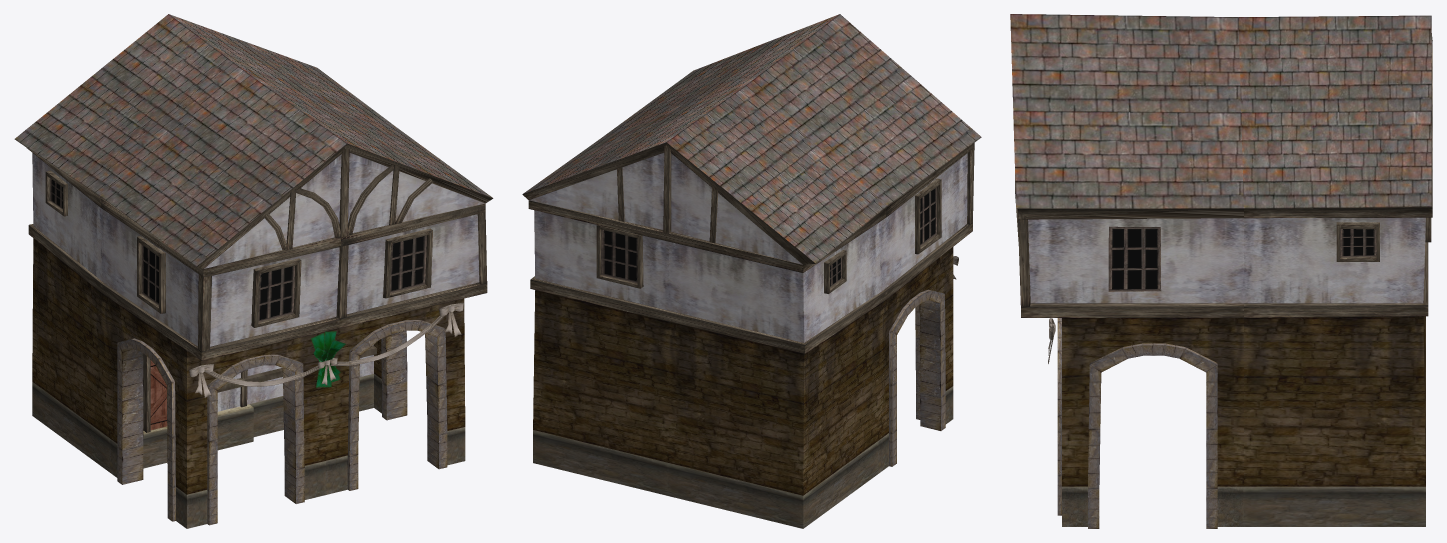
File: english_corner_d.fbx
The picture shows the model from 3 angles, left to right: view 1: azimuth 30°, elevation 25°; view 2: azimuth 150°, elevation 25°; view 3: azimuth 270°, elevation 25°; orthographic projection. The views are drawn at different scales.
Parts seen in each view (by area): view 1: building_shell, building_shell6, building_shell3, window_a_016, window_a_018, window_a_033, window_a_034, window_a_032, door_left, window_a_020, decoRibbon1, decoRibbon (+4 smaller); view 2: building_shell, building_shell6, window_a_021, window_a_035, window_a_032, window_a_020, window_b_07; view 3: building_shell, building_shell6, window_a_022, window_b_04, window_b_010.
Part boxes in pixels (left/top/right/bottom): building_shell: left=14, top=14, right=492, bottom=528; building_shell6: left=20, top=143, right=492, bottom=360; building_shell3: left=143, top=407, right=253, bottom=468; window_a_016: left=390, top=235, right=426, bottom=293; window_a_018: left=258, top=266, right=294, bottom=322; window_a_033: left=251, top=258, right=301, bottom=327; window_a_034: left=383, top=228, right=432, bottom=298; window_a_032: left=137, top=236, right=165, bottom=313; door_left: left=150, top=360, right=167, bottom=430; window_a_020: left=142, top=245, right=158, bottom=305; decoRibbon1: left=205, top=365, right=319, bottom=386; decoRibbon: left=330, top=315, right=444, bottom=366; building_shell: left=523, top=14, right=981, bottom=528; building_shell6: left=522, top=142, right=974, bottom=353; window_a_021: left=601, top=230, right=637, bottom=283; window_a_035: left=596, top=225, right=643, bottom=288; window_a_032: left=915, top=178, right=941, bottom=254; window_a_020: left=920, top=187, right=936, bottom=246; window_b_07: left=824, top=250, right=846, bottom=293; building_shell: left=1010, top=14, right=1432, bottom=528; building_shell6: left=1017, top=33, right=1432, bottom=317; window_a_022: left=1108, top=226, right=1160, bottom=291; window_b_04: left=1340, top=229, right=1376, bottom=256; window_b_010: left=1336, top=222, right=1379, bottom=261.
Size of the model in its own units: 4557 by 5286 by 4675.
Materials: 2 (2 with a texture image).
